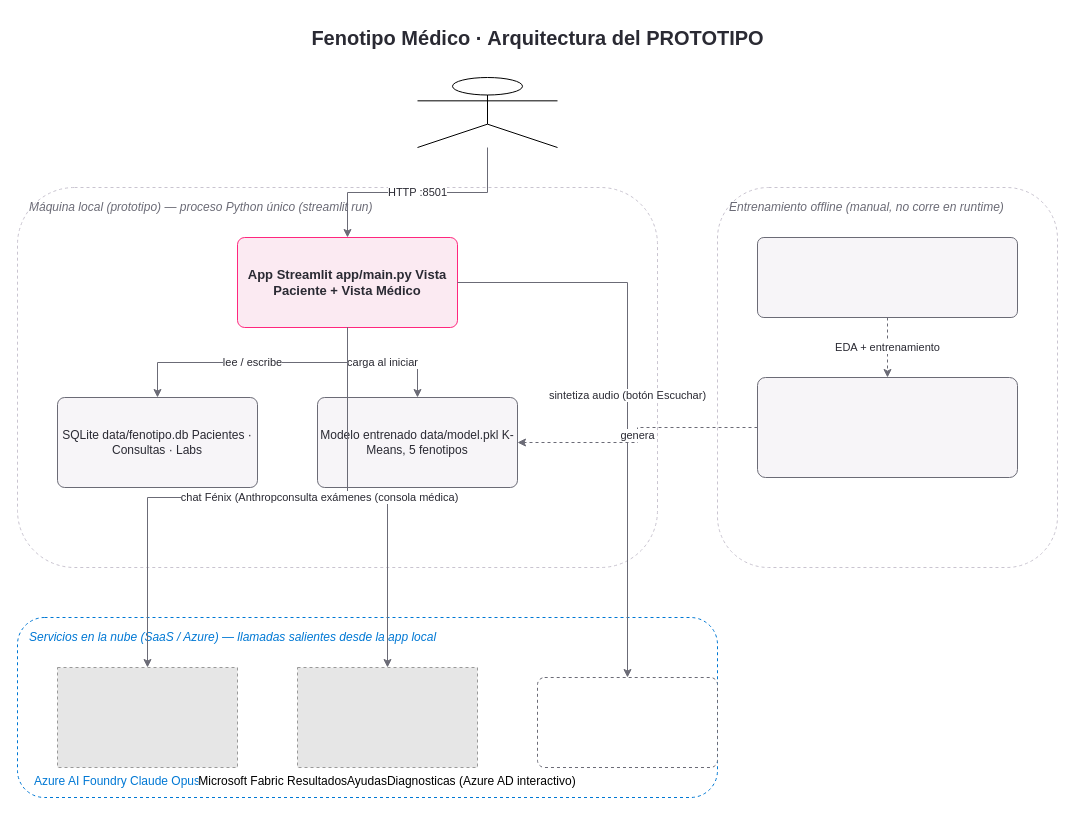
Some shapes in this 1075 by 815 pixel diagram are drawn without their labels. Grey dashed boxes stand in for pictures. The shapes that lost their labels are listed below. From the top down, each one's centre as x and y in pixels, then its label:
At point 487,112: "Paciente / Médico (navegador)".
At point 887,277: "Histórico Excel HISTORICO_MF...xlsx".
At point 887,427: "Notebooks 01→04 + scripts/train_model.py (databricks/, local)".
At point 627,722: "ElevenLabs Texto a voz (accesibilidad)".
